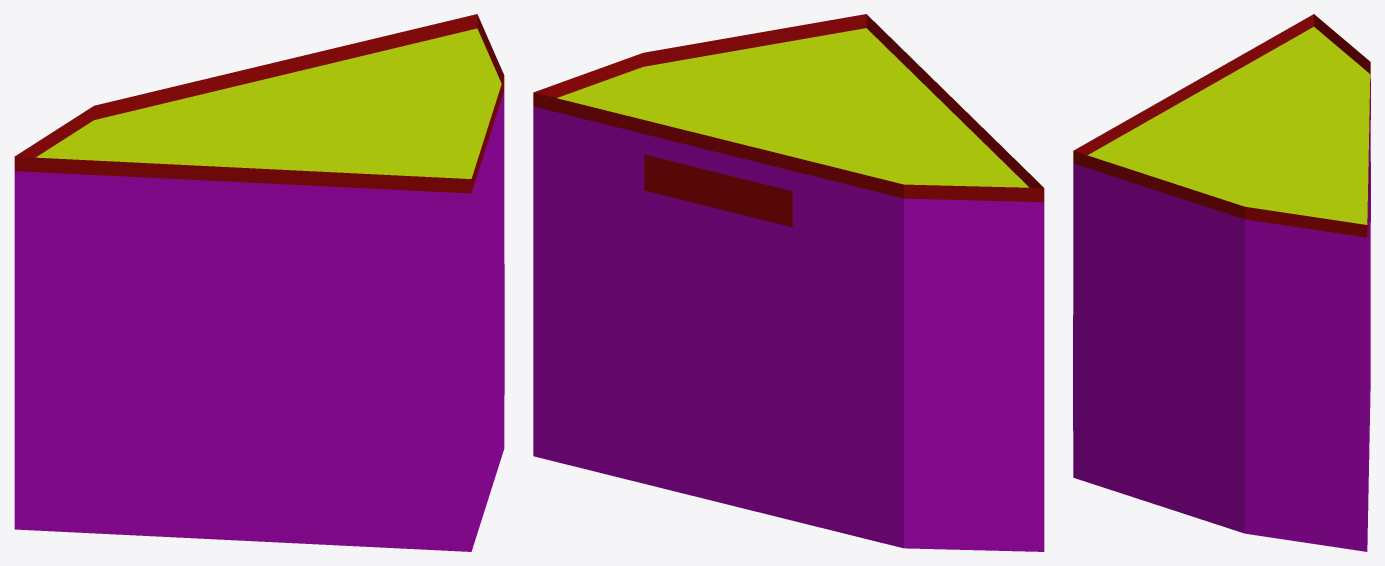
Rendered from bgj_338.glb.
3 views of the same model, side by side, from view 1: azimuth 30°, elevation 25°; view 2: azimuth 150°, elevation 25°; view 3: azimuth 270°, elevation 25° (orthographic). The views are drawn at different scales.
Parts seen in each view (by area): view 1: bgj_338; view 2: bgj_338; view 3: bgj_338.
Part boxes in pixels (x1,y1,x2,y2): bgj_338: (14, 14, 504, 551); bgj_338: (533, 14, 1044, 551); bgj_338: (1073, 14, 1370, 551).
Size of the model in its own units: 12.54 by 9.05 by 7.47.
